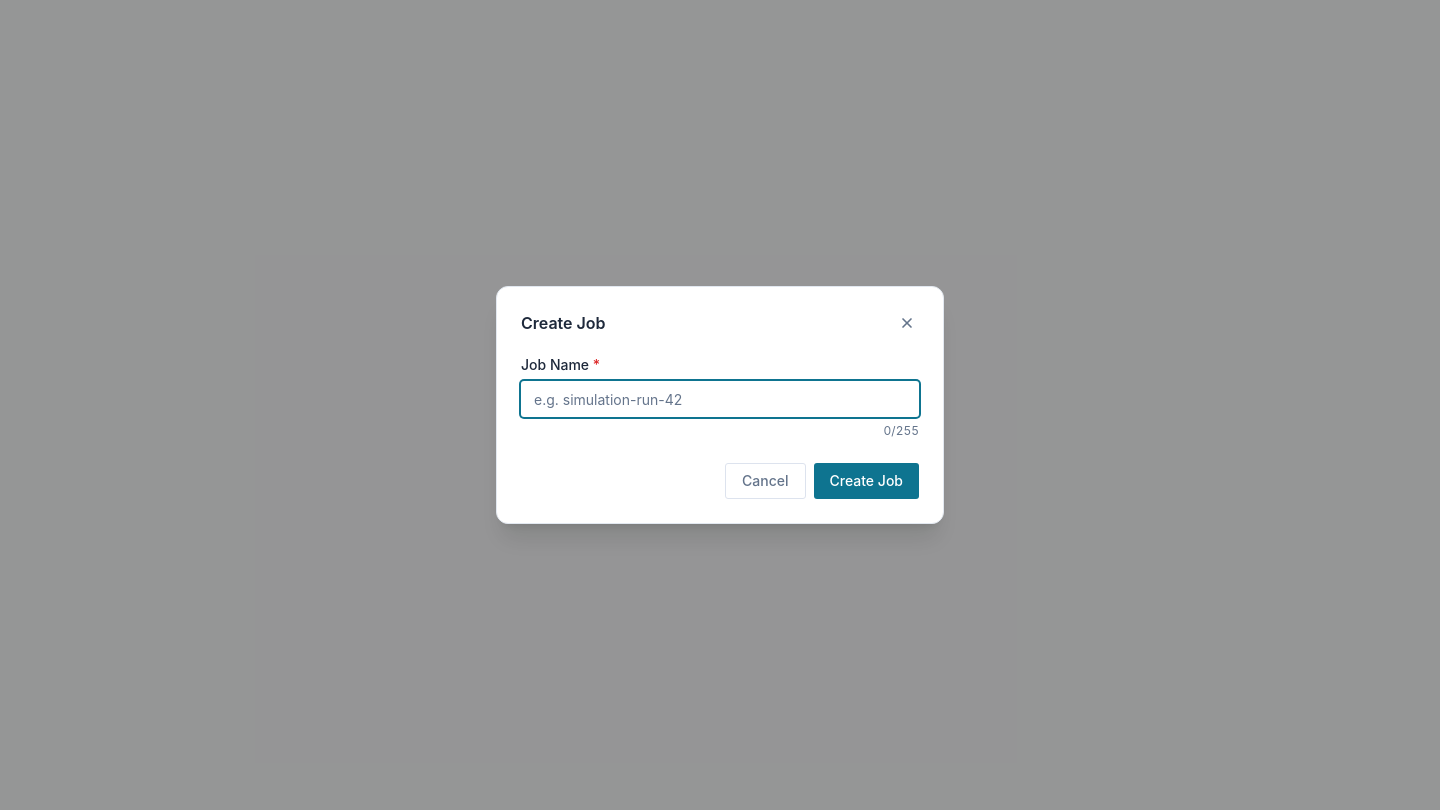
Scenario: CreateJobModal › failed submission › shows API error message on failure
This screenshot has width=1440, height=810.
Type "my-job" into the field labelled "Job Name *".
click(720, 399); type("my-job")  # box x1=521 y1=381 x2=919 y2=417
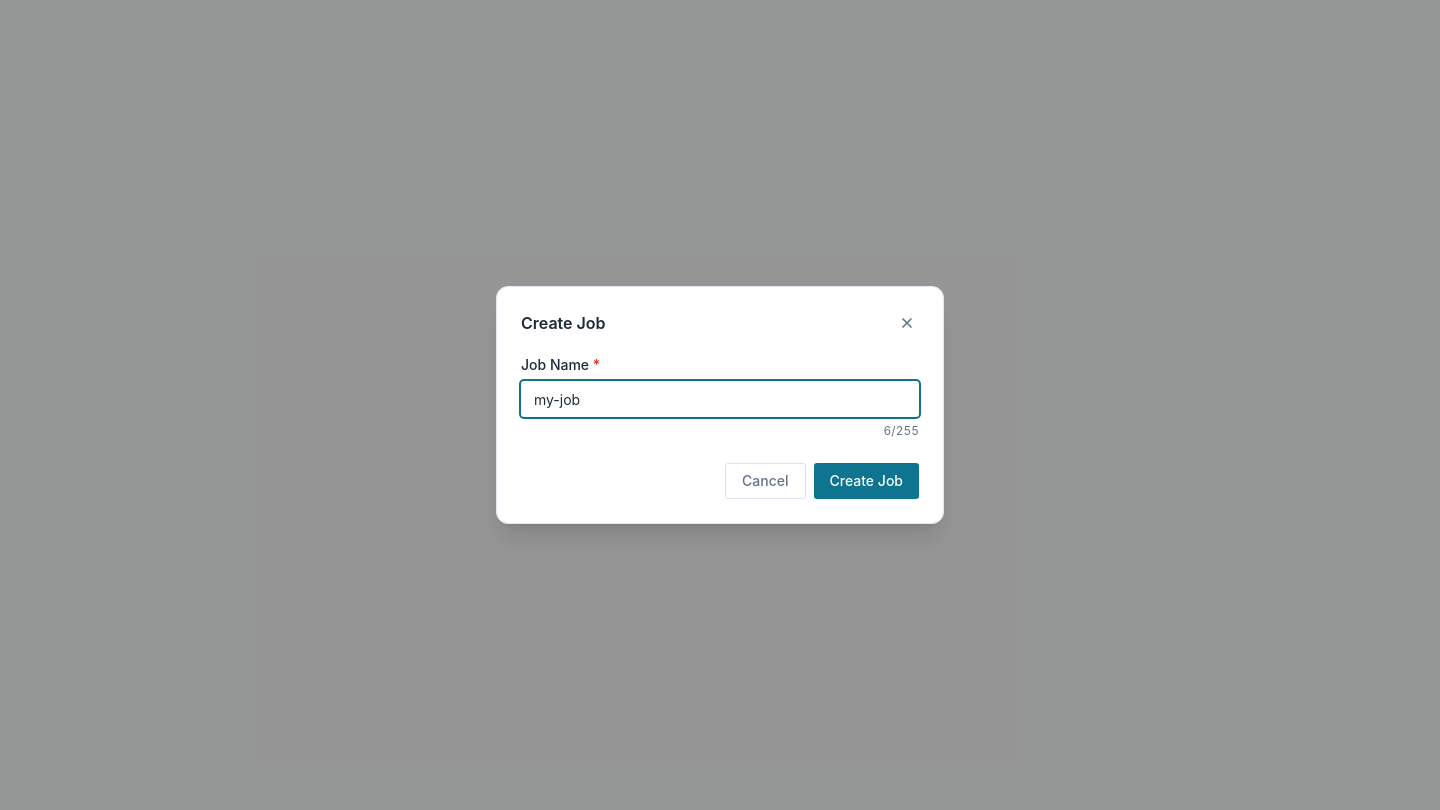
Click the button "Create Job".
click(866, 481)  # box x1=814 y1=463 x2=919 y2=499
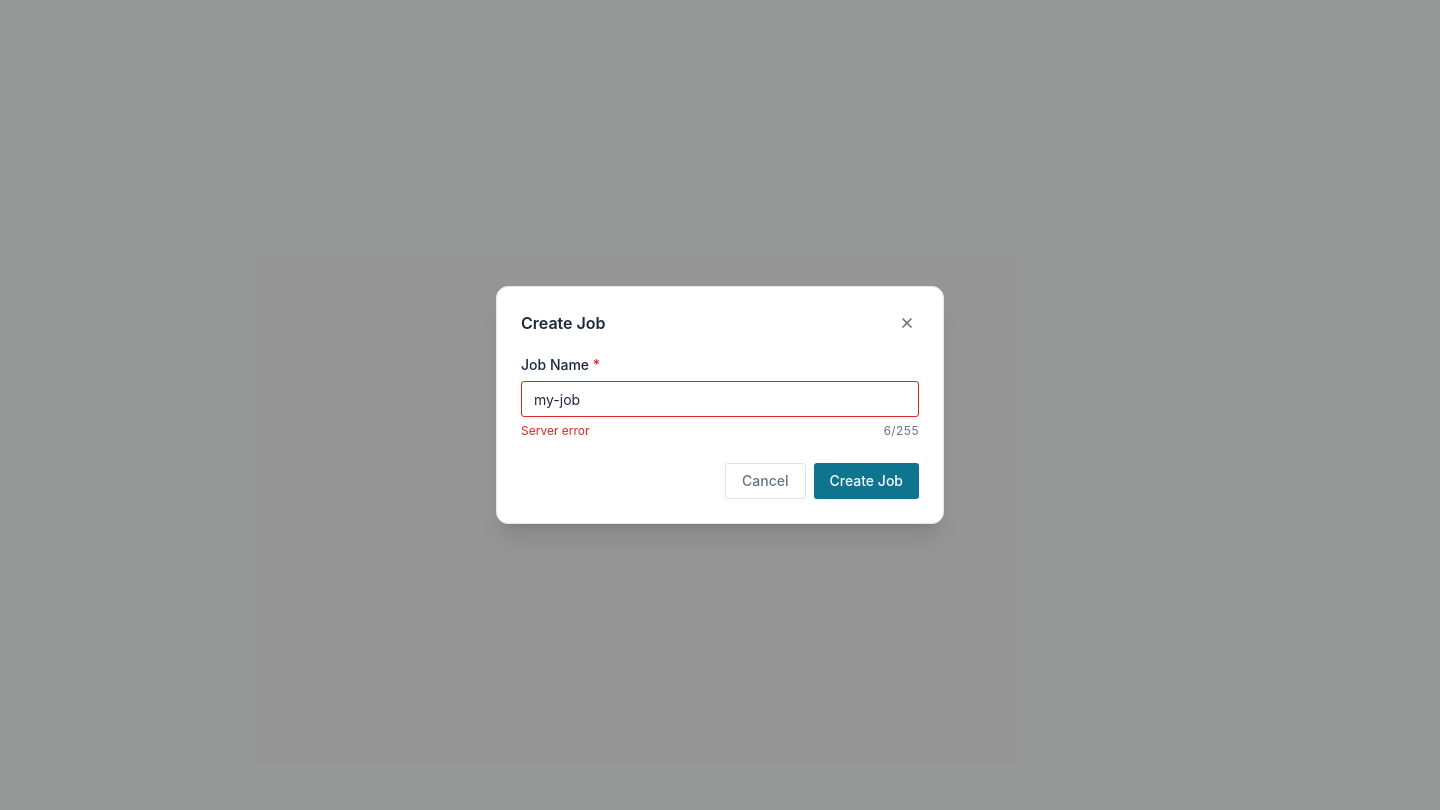
Result: the text "Server error" is shown at x1=521 y1=423 x2=590 y2=439
